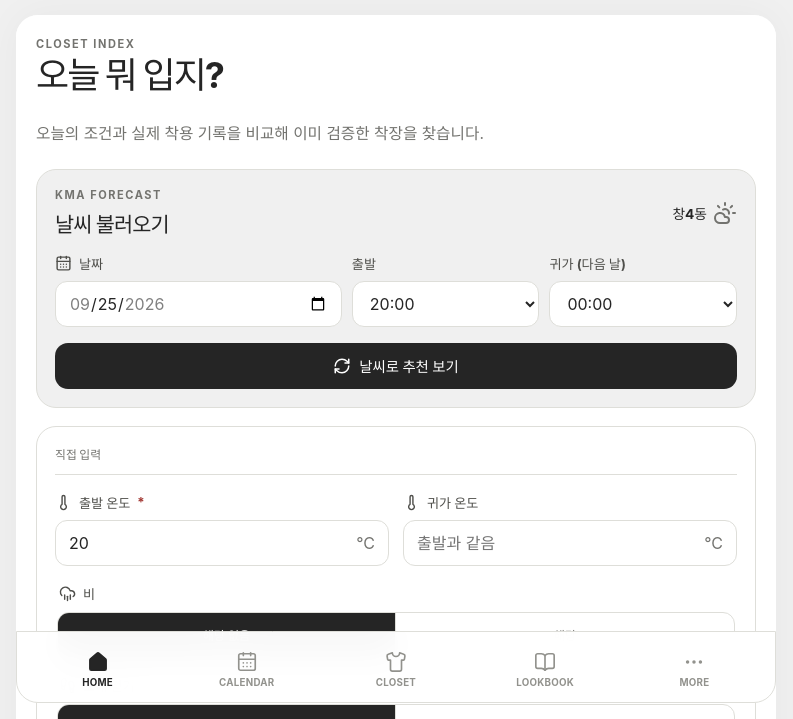
it: Phase 2 weather recommendation flow › 날씨 API 실패 뒤에도 수동 입력으로 추천을 계속한다
Check: the text "창4동" is shown, box x1=672 y1=203 x2=707 y2=223
Click the button "날씨로 추천 보기": point(396, 366) x1=55 y1=343 x2=737 y2=389
(page scrolled)
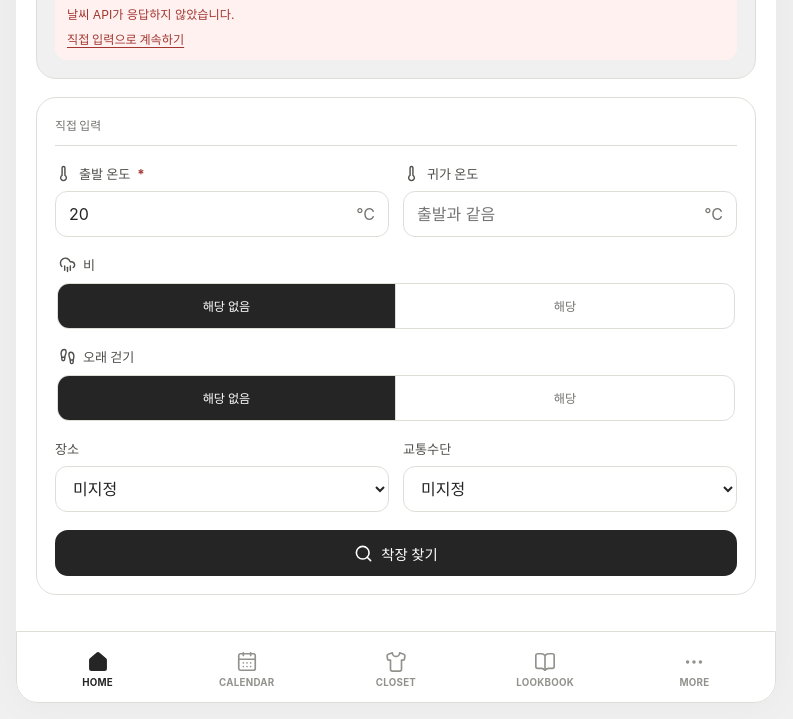
Check: the text "직접 입력" is shown, box x1=55 y1=116 x2=101 y2=133
Check: the message shows "날씨 API가 응답하지 않았습니다.", box x1=67 y1=7 x2=234 y2=22
Click the button "착장 찾기": point(396, 553) x1=55 y1=530 x2=737 y2=576
(page scrolled)
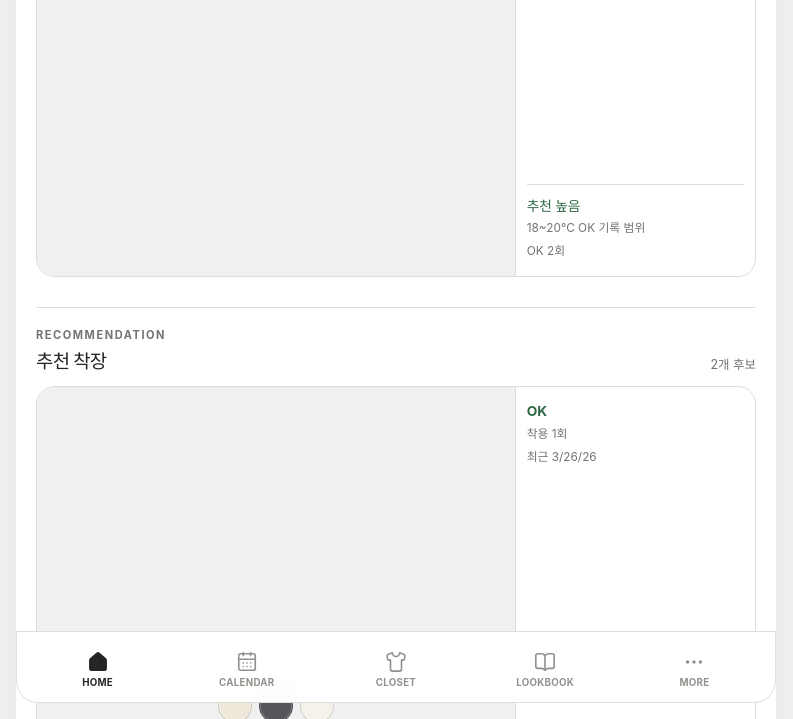
Check: the heading "추천 착장" is shown, box x1=36 y1=350 x2=107 y2=373
